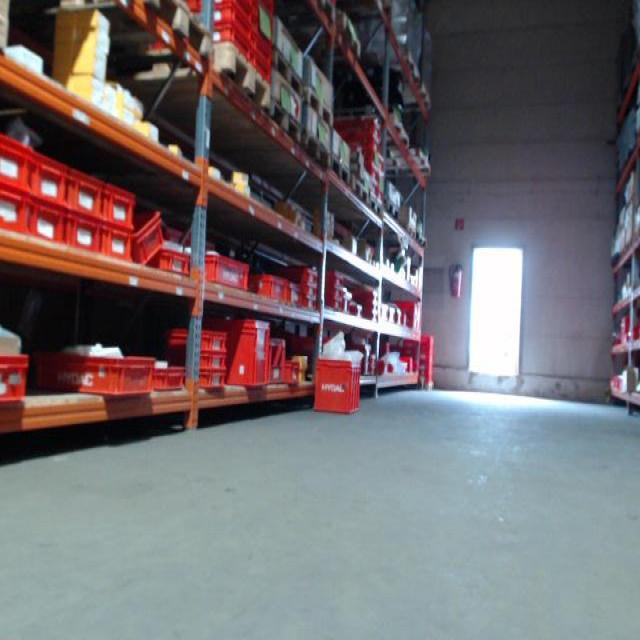pallet: (30, 1, 219, 84), (121, 37, 274, 123), (192, 103, 302, 148), (272, 12, 362, 66), (332, 113, 410, 158), (280, 133, 332, 178), (261, 49, 303, 102), (234, 0, 337, 21), (297, 89, 338, 130), (308, 163, 356, 190), (390, 154, 432, 182), (343, 183, 369, 215), (364, 194, 383, 223), (380, 197, 399, 224)
small_load_carrier: (36, 349, 154, 401), (212, 318, 270, 392), (315, 357, 360, 415), (192, 248, 250, 292), (134, 205, 166, 271), (69, 165, 107, 219), (33, 148, 69, 205), (66, 212, 106, 259), (2, 132, 30, 195), (1, 350, 31, 408), (261, 335, 290, 394), (105, 180, 139, 229), (204, 28, 251, 62), (247, 269, 286, 307), (0, 193, 33, 237), (211, 6, 253, 40), (29, 204, 63, 243), (168, 346, 230, 366), (168, 327, 228, 347), (105, 225, 134, 264), (156, 362, 187, 396), (186, 369, 228, 393), (162, 248, 192, 280), (285, 264, 319, 285), (298, 292, 321, 312), (321, 299, 344, 319), (282, 359, 298, 386), (323, 271, 347, 285), (322, 286, 346, 298), (298, 281, 318, 293), (288, 283, 298, 306)
